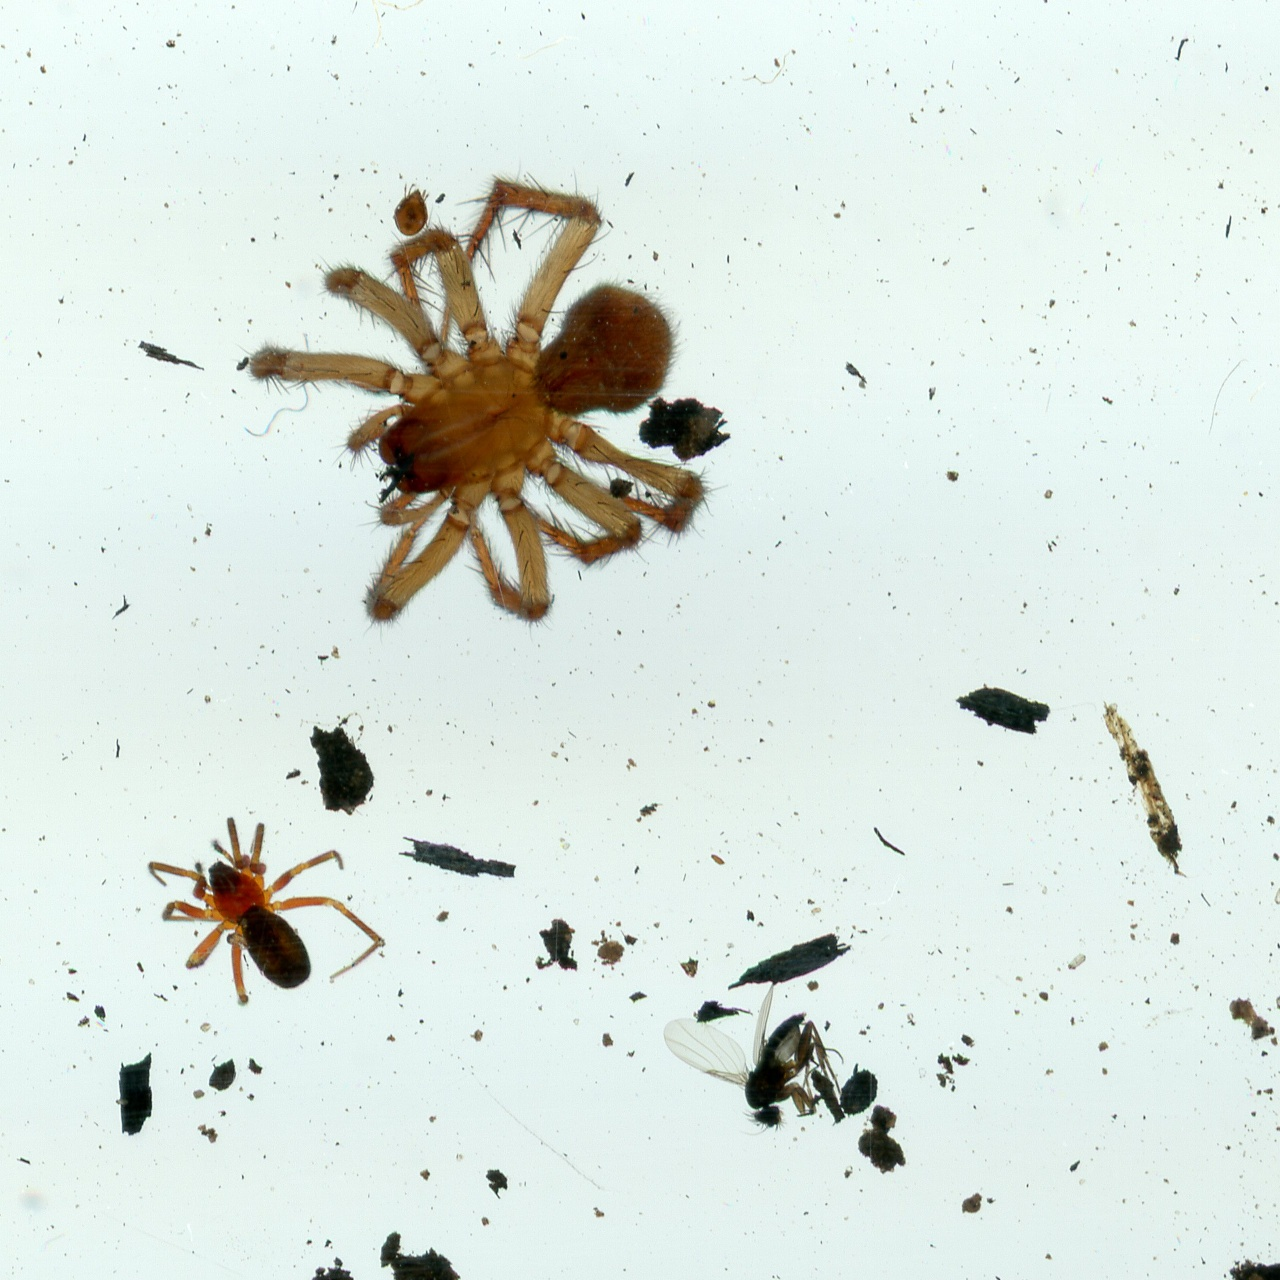arthropod: (229, 155, 718, 645), (143, 812, 389, 1013), (656, 980, 847, 1143)
